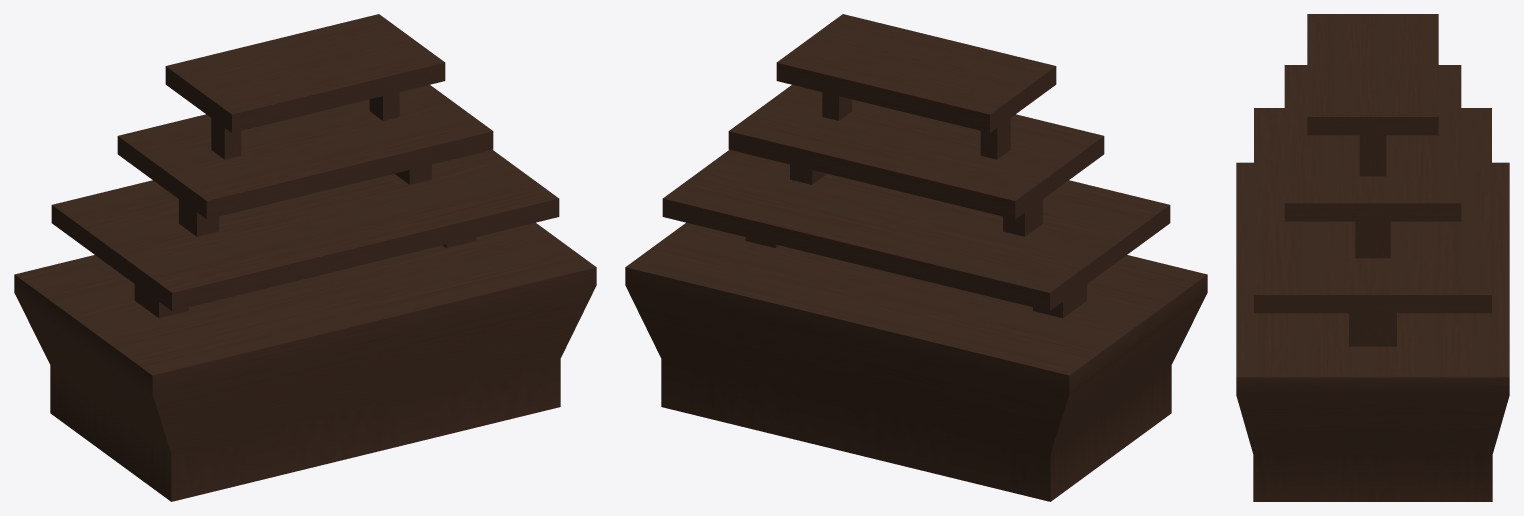
The model's file is Display_A_4.FBX.
The picture shows the model from 3 angles, left to right: view 1: azimuth 30°, elevation 25°; view 2: azimuth 150°, elevation 25°; view 3: azimuth 270°, elevation 25°; orthographic projection.
Visible parts, largest first — view 1: Display_A; view 2: Display_A; view 3: Display_A.
Boxes of the visible parts, <box> form: Display_A: <box>14,14,596,501</box>; Display_A: <box>625,14,1207,501</box>; Display_A: <box>1236,14,1509,501</box>.
Size of the model in its own units: 371 by 276 by 200.
